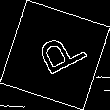P_SW: (24, 27, 86, 83)
